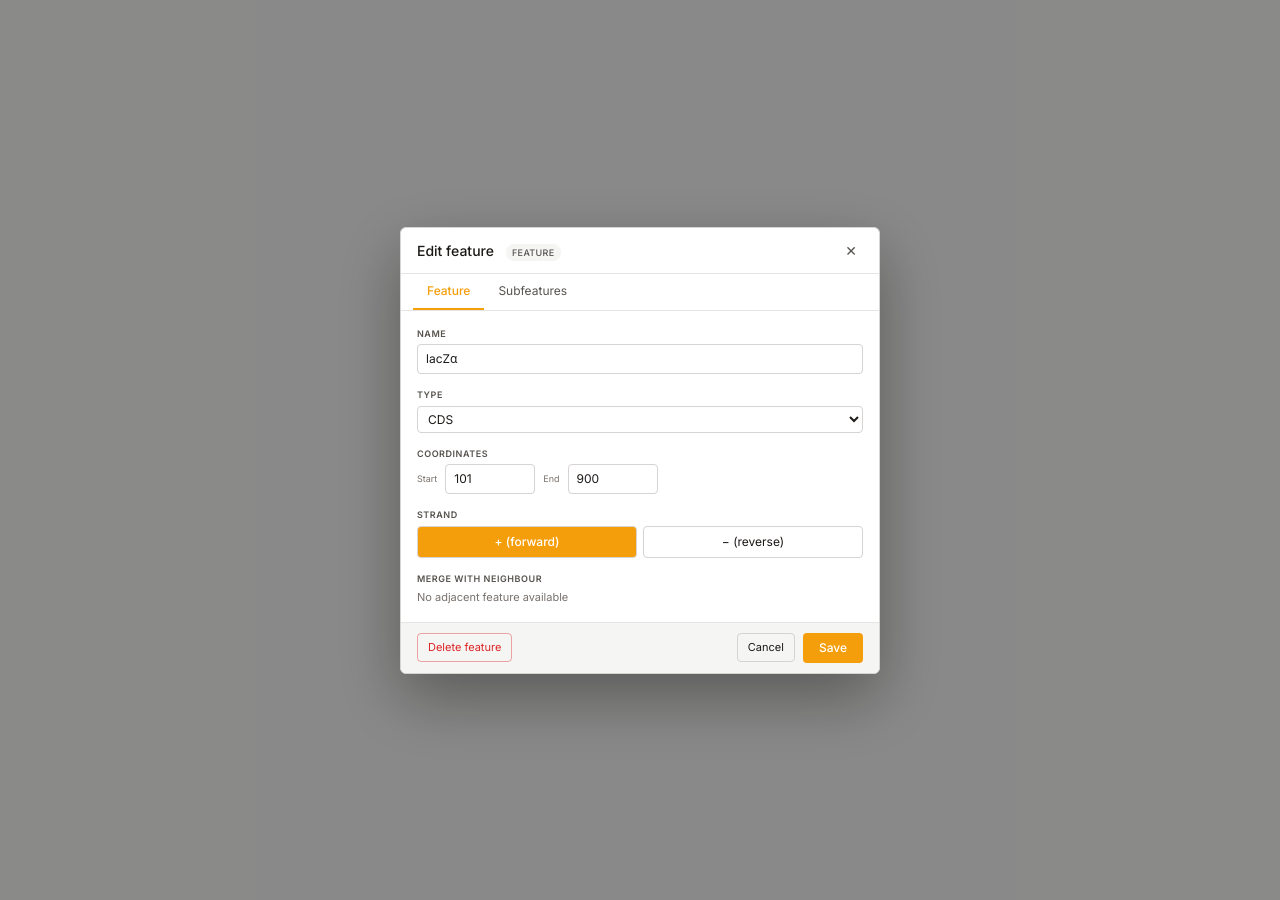
FeatureEditorModal — Split sub-features / Merge / Delete › Clicking Split again adds a third sub-feature by halving the last one
Click the button with test id "feature-editor-tab-subfeatures" at (533, 292), box [484, 274, 581, 310]
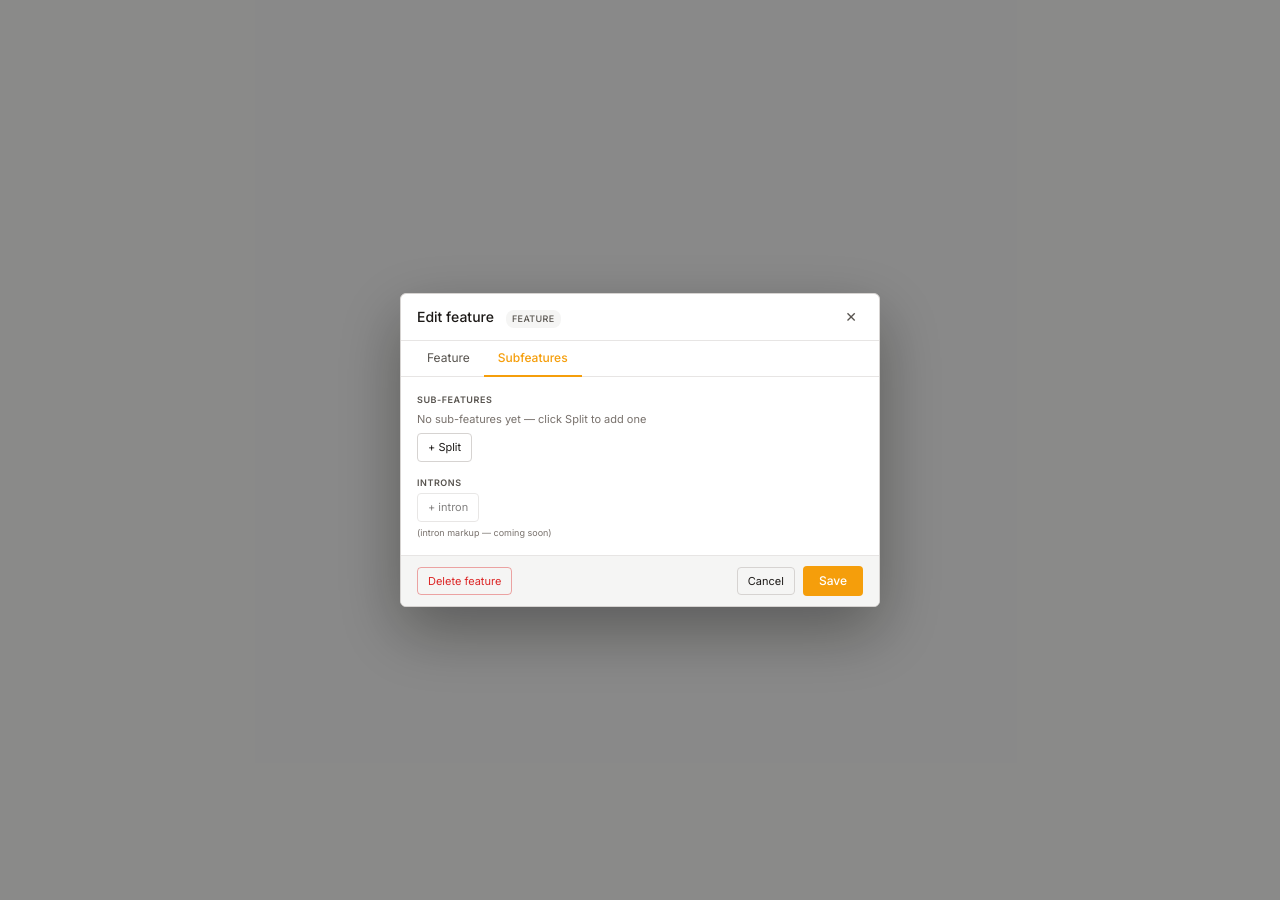
Click the button with test id "feature-editor-split" at (445, 447), box [417, 433, 472, 462]
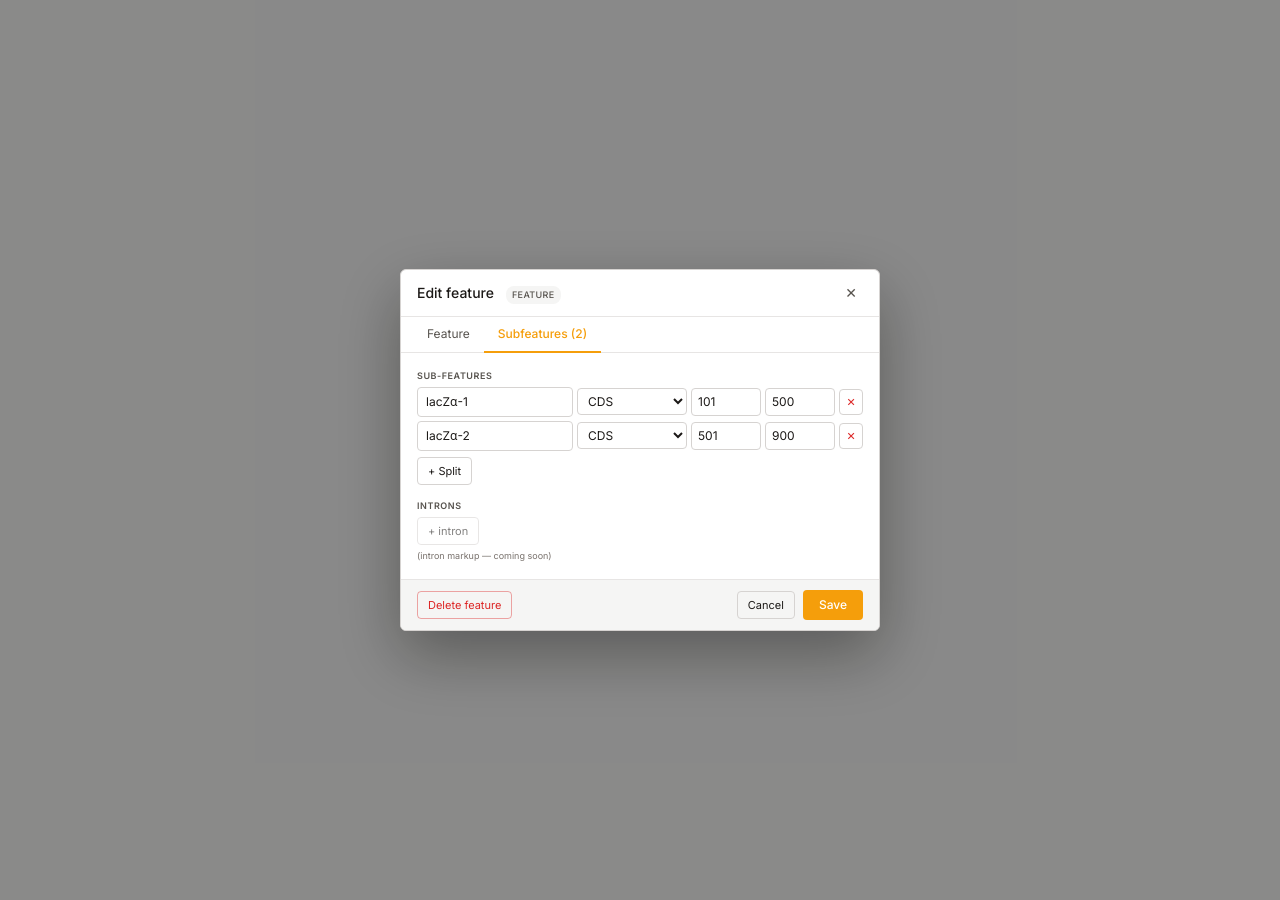
Result: the number of elements with test id "feature-editor-subfeature-row" is 2 at [417, 387, 863, 417]; [417, 421, 863, 451]
Click the button with test id "feature-editor-split" at (445, 471), box [417, 457, 472, 485]
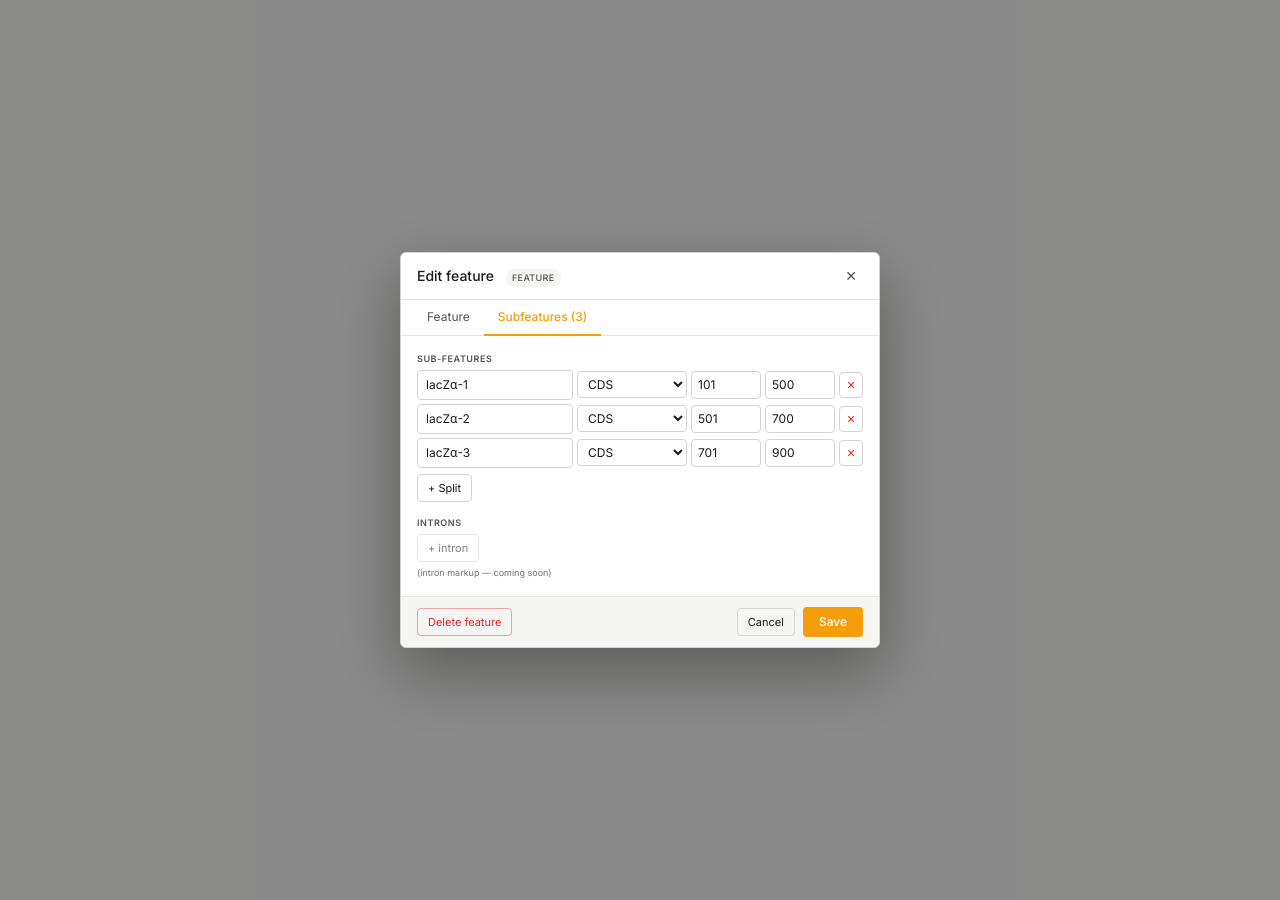
Result: the number of elements with test id "feature-editor-subfeature-row" is 3 at [417, 370, 863, 400]; [417, 404, 863, 434]; [417, 438, 863, 468]
